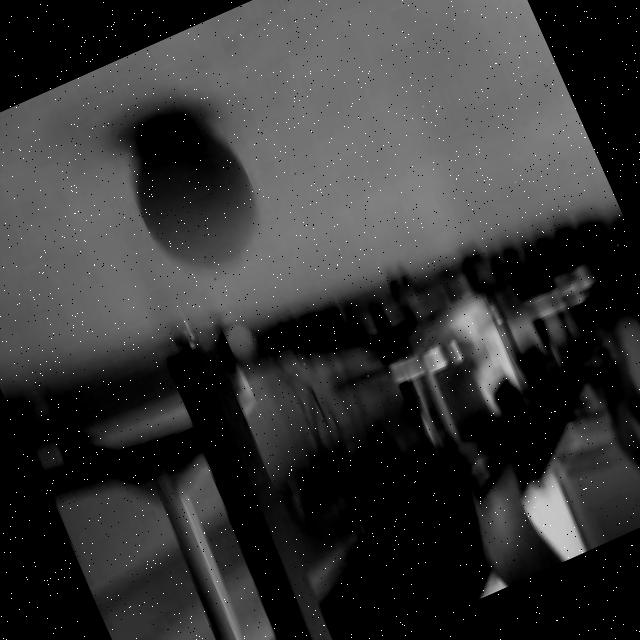ping-pong-ball: (102, 90, 290, 300)
